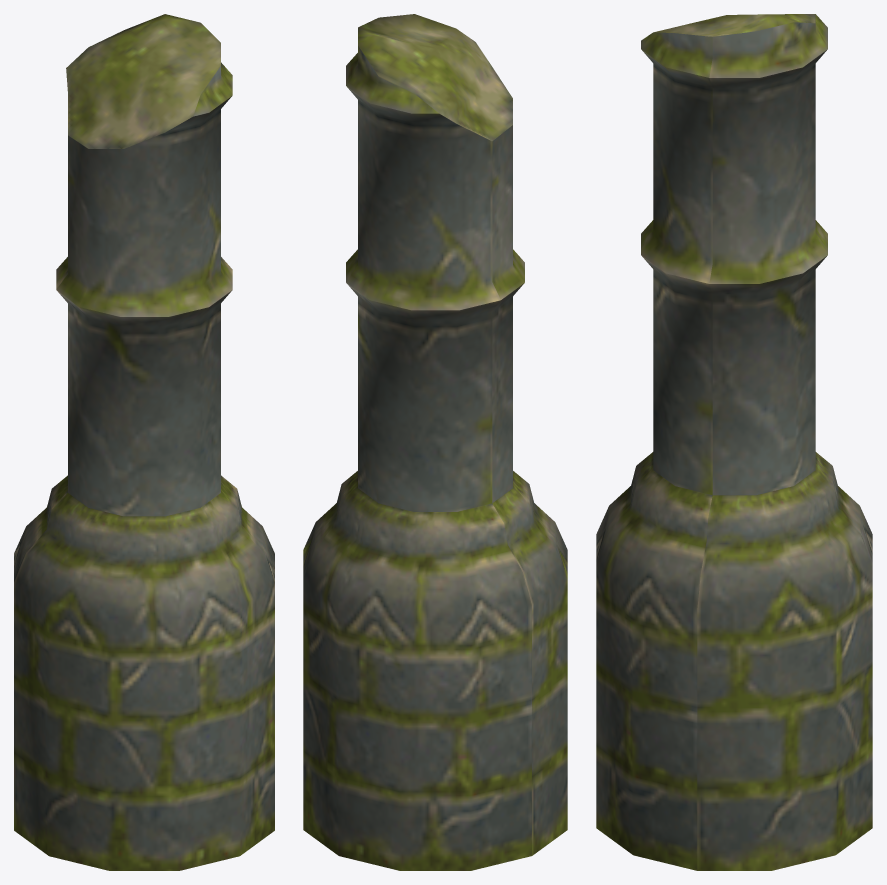
The model's file is 4009_Item_shizhu_2.FBX.
The picture shows the model from 3 angles, left to right: view 1: azimuth 30°, elevation 25°; view 2: azimuth 150°, elevation 25°; view 3: azimuth 270°, elevation 25°; orthographic projection. The views are drawn at different scales.
Visible parts, largest first — view 1: 4009_Item_shizhu_2; view 2: 4009_Item_shizhu_2; view 3: 4009_Item_shizhu_2.
Boxes of the visible parts, x1,y1,x2,y2 form: 4009_Item_shizhu_2: (14, 14, 274, 870); 4009_Item_shizhu_2: (303, 14, 567, 870); 4009_Item_shizhu_2: (596, 14, 872, 870).
Size of the model in its own units: 335 by 1096 by 335.
